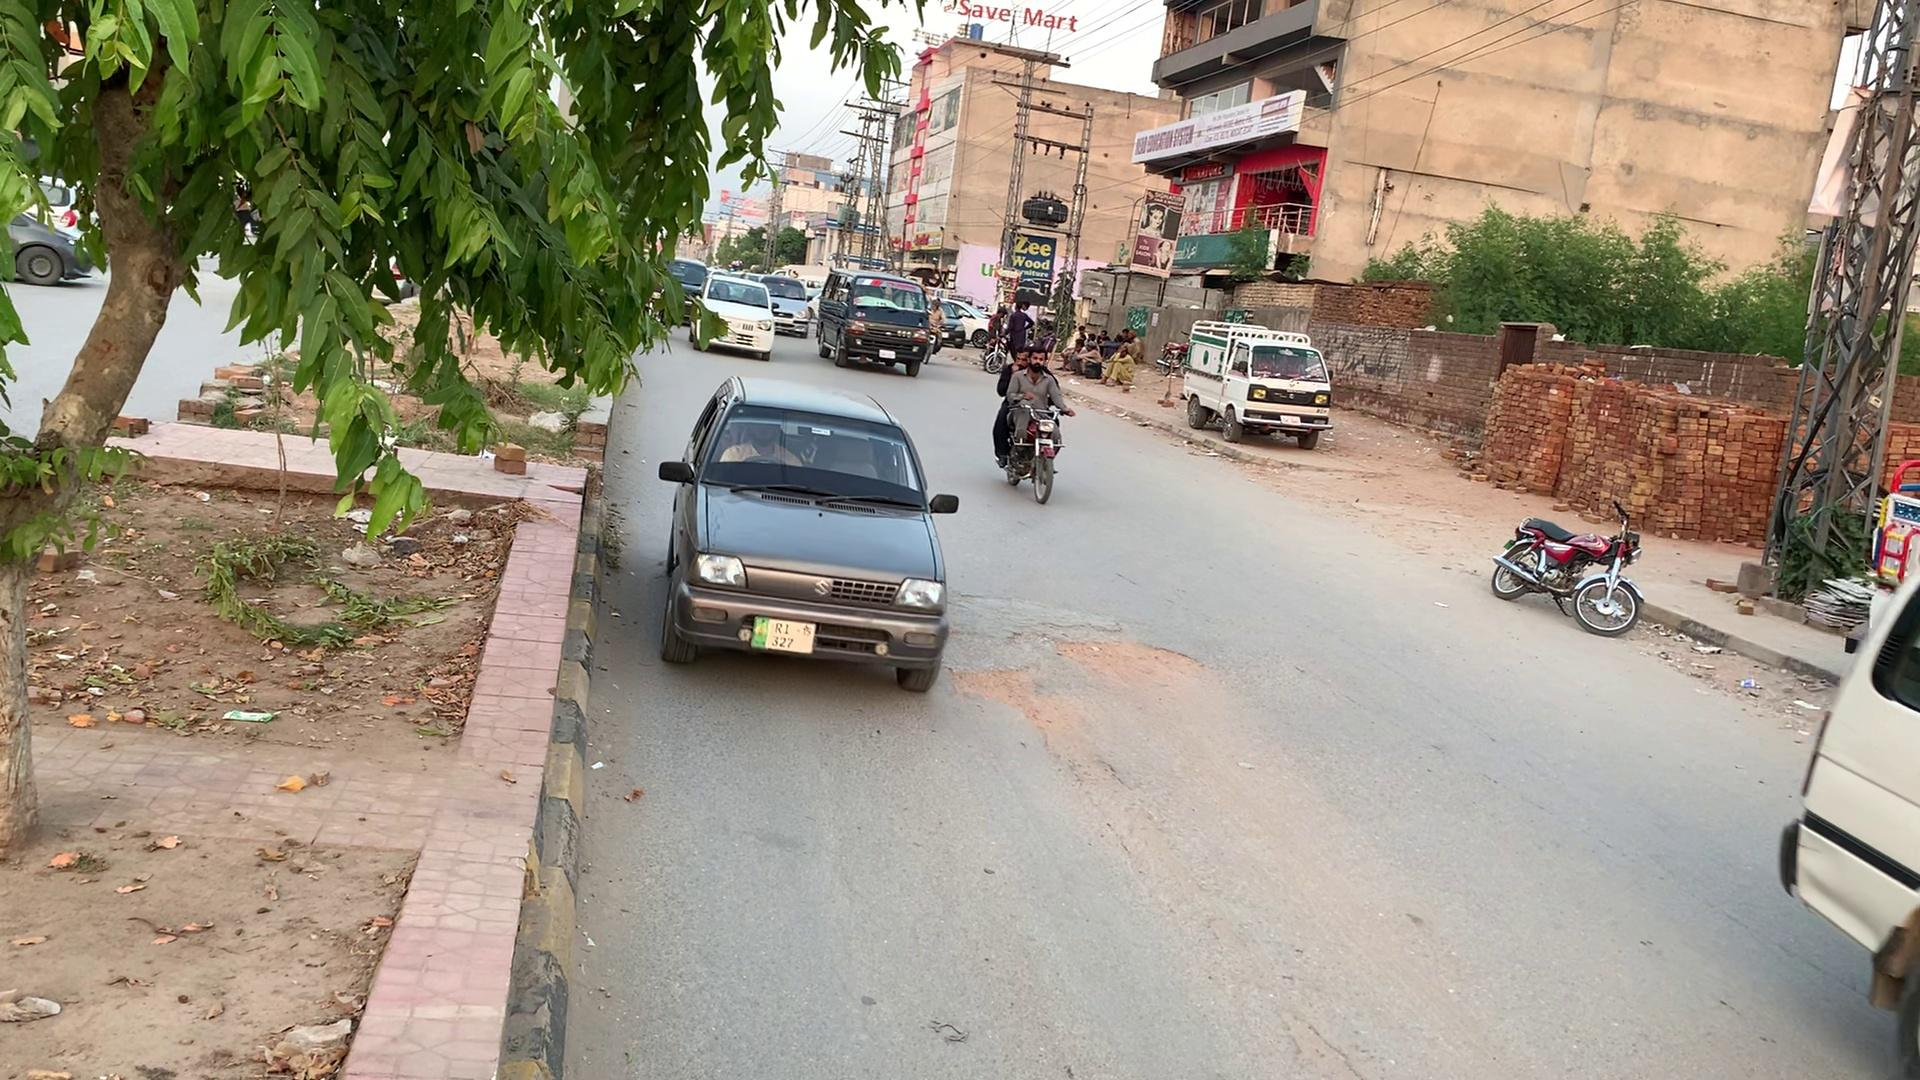windshield: (700, 385, 928, 522)
